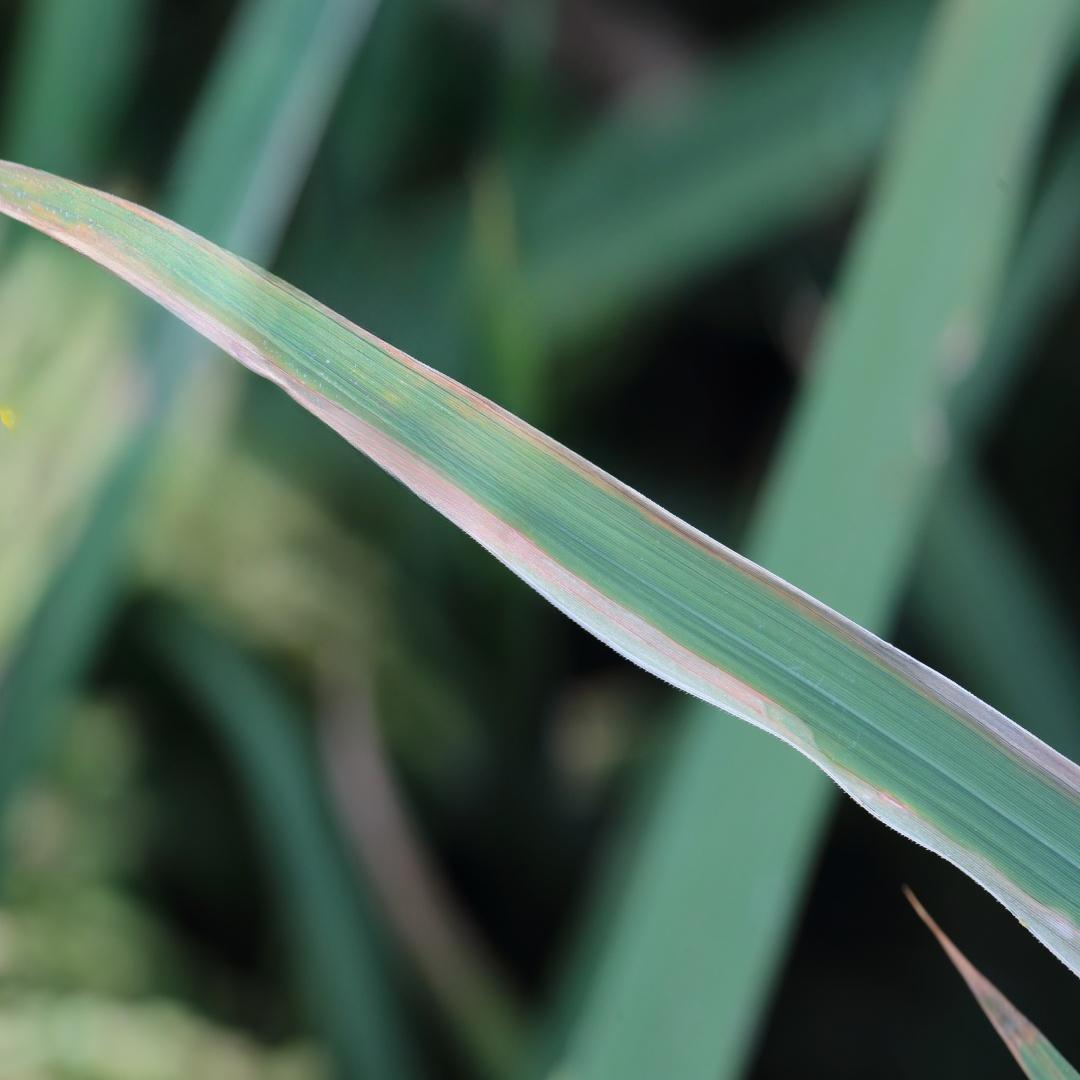BLB: (1, 161, 1079, 974)
LEAF: (0, 160, 1079, 975)
